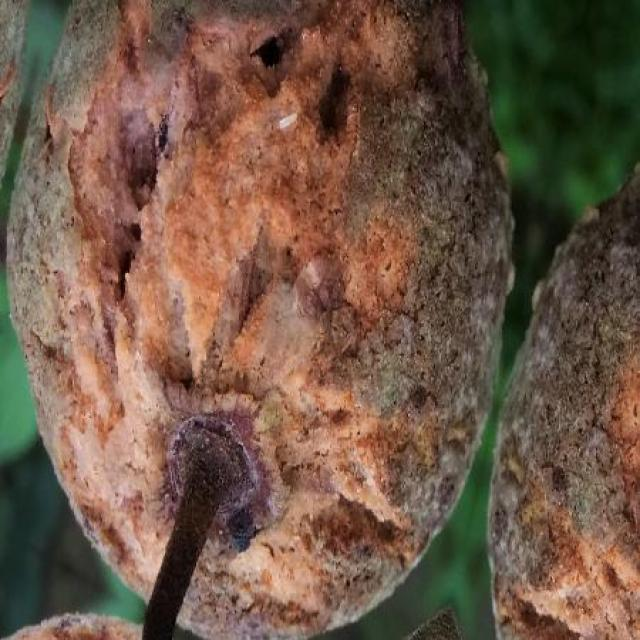Phytopthora: (8, 0, 510, 640), (491, 168, 640, 640)
